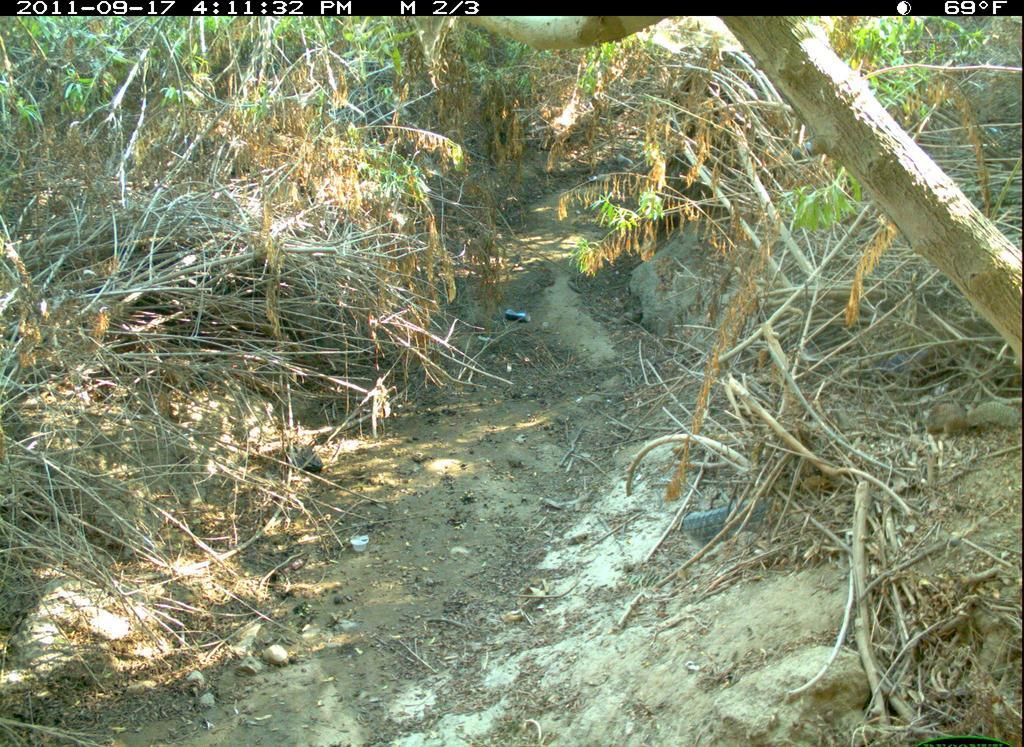squirrel: (909, 393, 1022, 445)
